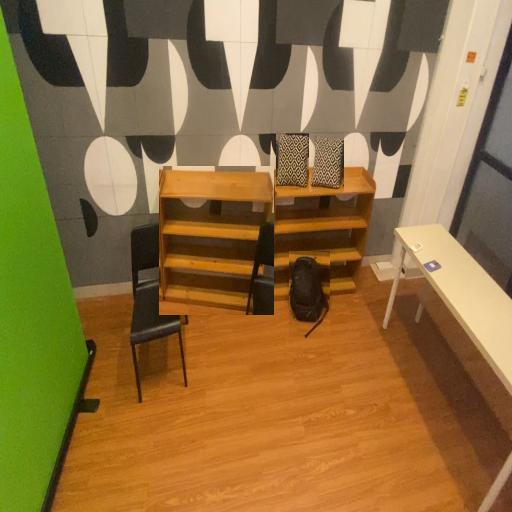bantal: (309, 133, 344, 192), (276, 132, 310, 192)
hp: (422, 258, 443, 276)
kursi: (128, 220, 190, 404)
lemari: (159, 166, 274, 315)
meja: (380, 221, 512, 512)
remote AC: (408, 236, 424, 258)
tas ransel: (289, 251, 330, 339)
